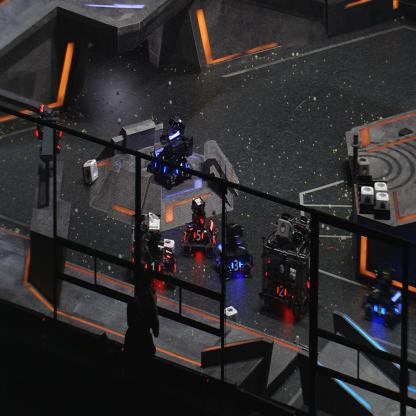car: (258, 212, 316, 319), (129, 211, 178, 290), (146, 115, 194, 188), (363, 266, 406, 328), (180, 197, 219, 259), (215, 220, 253, 280)
